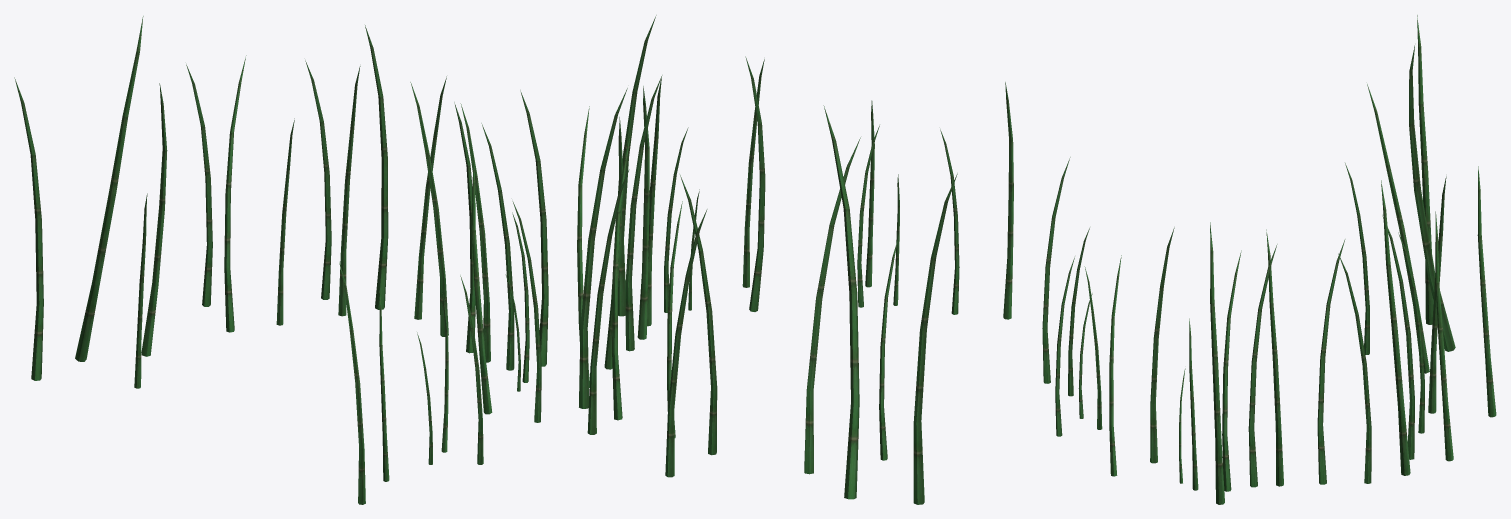
File: Area_05_2.fbx
3 renders of one model, left to right at view 1: azimuth 30°, elevation 25°; view 2: azimuth 150°, elevation 25°; view 3: azimuth 270°, elevation 25°, orthographic. The views are drawn at different scales.
Visible parts, largest first — view 1: Area_05_2; view 2: Area_05_2; view 3: Area_05_2.
Part boxes in pixels (x1=…): Area_05_2: x1=14, y1=16, x2=548, y2=504; Area_05_2: x1=577, y1=15, x2=1013, y2=504; Area_05_2: x1=1042, y1=15, x2=1496, y2=504.
Size of the model in its own units: 3431 by 2690 by 3360.
